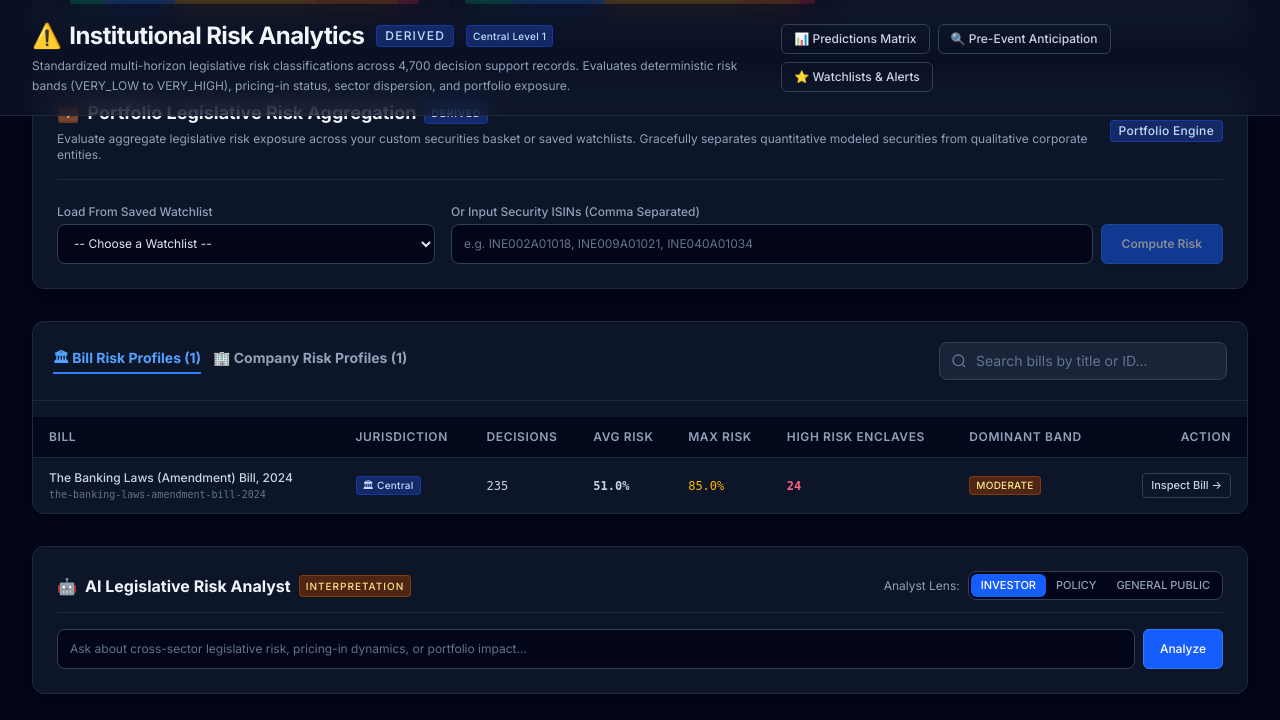
Test: Institutional Risk Analytics (/risk) › renders tabbed bill risk profiles and switches to company risk profiles
The image size is (1280, 720).
(page scrolled)
Expected: the link "The Banking Laws (Amendment) Bill, 2024" is shown, [49, 470, 293, 485]
Expected: the button "Inspect Bill →" is shown, [1142, 473, 1231, 498]
Click the button "🏢 Company Risk Profiles (1)". click: (310, 361)
box: [213, 348, 407, 374]
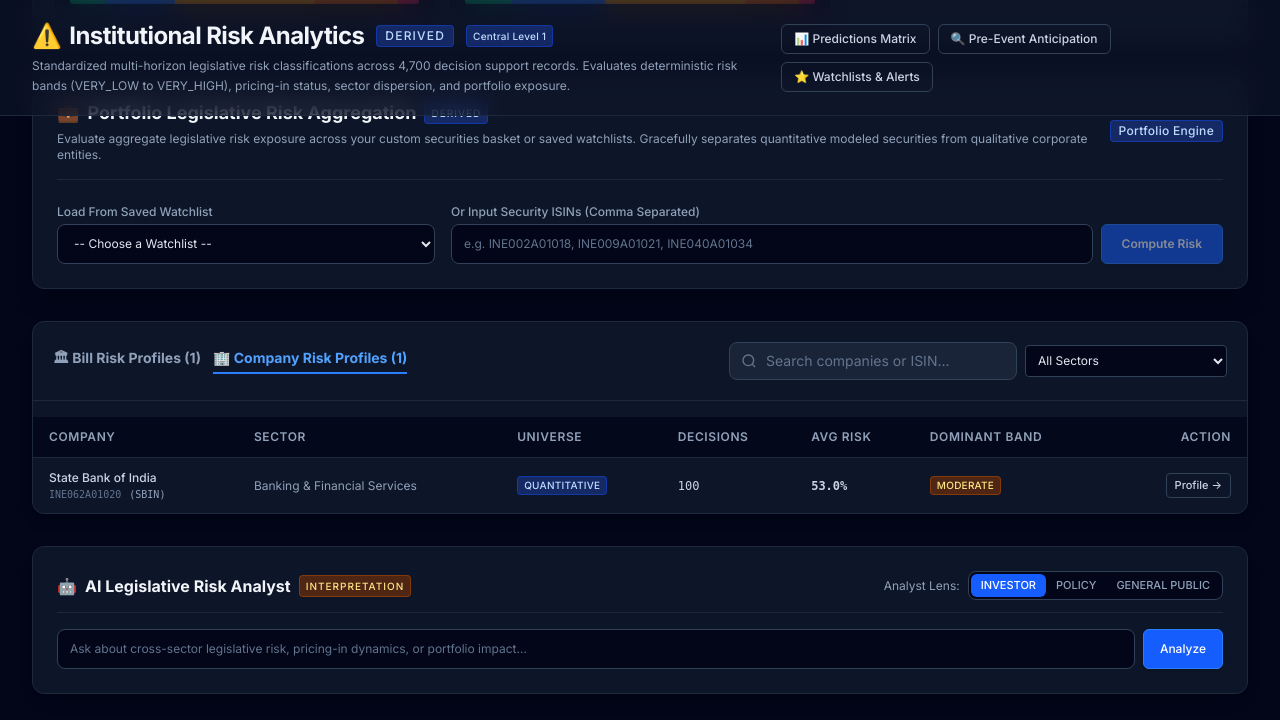
Expected: the link "State Bank of India" is shown, [49, 470, 156, 485]
Expected: the button "Profile →" is shown, [1166, 473, 1231, 498]
